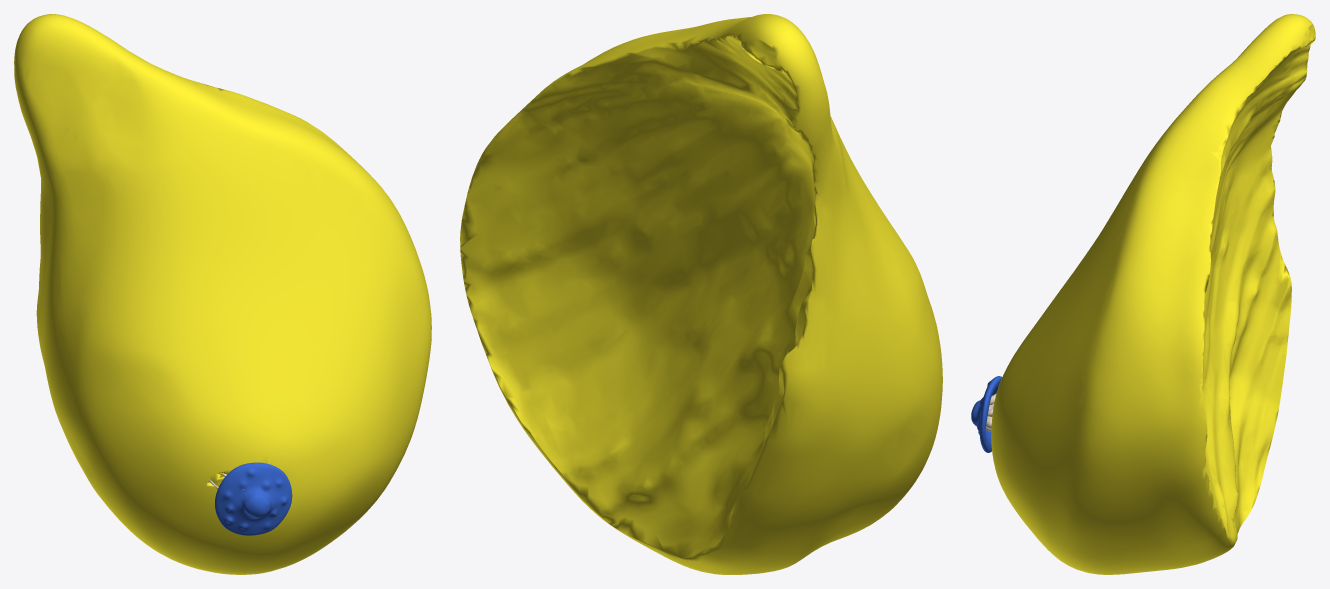
The model's file is mammary-gland-female-right.glb.
The picture shows the model from 3 angles, left to right: view 1: azimuth 30°, elevation 25°; view 2: azimuth 150°, elevation 25°; view 3: azimuth 270°, elevation 25°; orthographic projection. The views are drawn at different scales.
Visible parts, largest first — view 1: VH_F_fat_R, VH_F_areola_R, VH_F_nipple_R, VH_F_areolar_tubercles_R; view 2: VH_F_fat_R; view 3: VH_F_fat_R, VH_F_areola_R.
Boxes of the visible parts, left/top/right/bottom form: VH_F_fat_R: left=14, top=14, right=431, bottom=574; VH_F_areola_R: left=215, top=462, right=292, bottom=535; VH_F_nipple_R: left=241, top=491, right=271, bottom=519; VH_F_areolar_tubercles_R: left=223, top=468, right=286, bottom=530; VH_F_fat_R: left=460, top=14, right=942, bottom=574; VH_F_fat_R: left=991, top=14, right=1315, bottom=574; VH_F_areola_R: left=976, top=376, right=1002, bottom=452.
Bounding box in the file's own units: 0.1283 × 0.18 × 0.1132.
